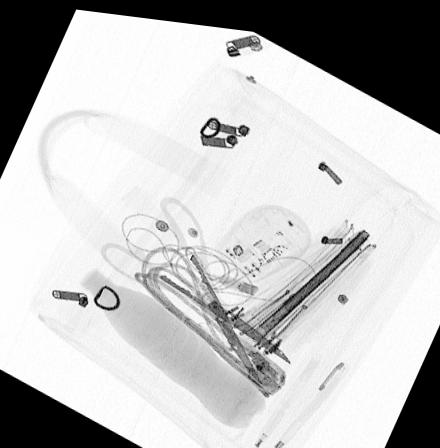Scissors: (98, 190, 292, 379)
